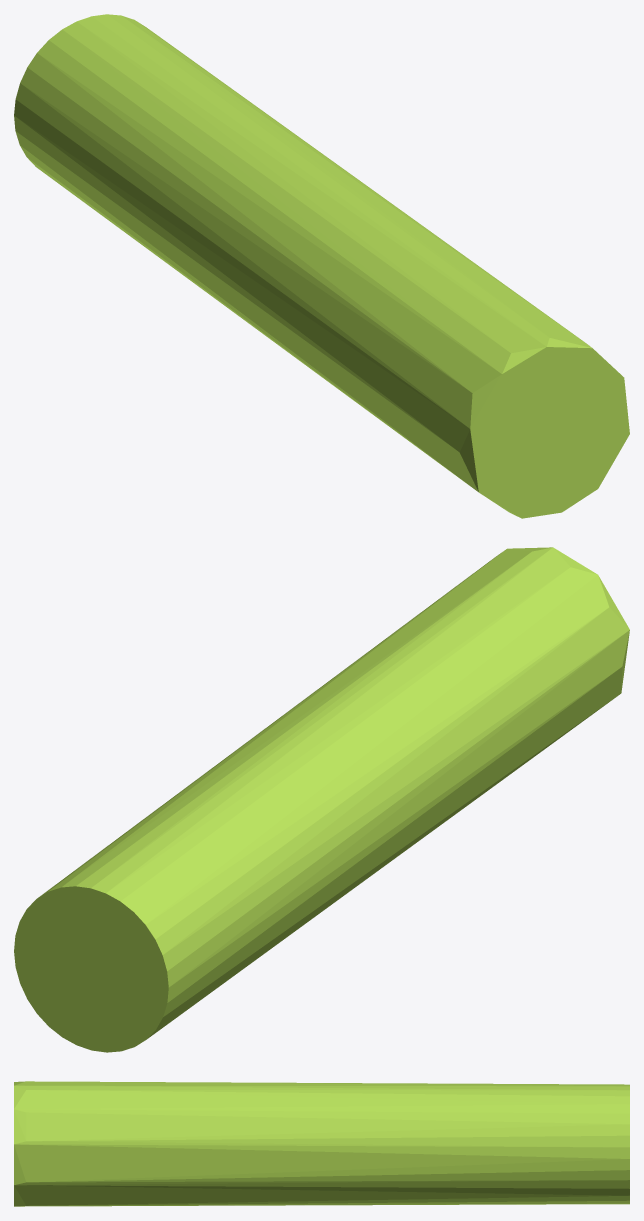
Rendered from ur10e_link_3_coll_1.dae.
3 views of the same model, one above another, from view 1: azimuth 30°, elevation 25°; view 2: azimuth 150°, elevation 25°; view 3: azimuth 270°, elevation 25° (orthographic). The views are drawn at different scales.
Parts seen in each view (by area): view 1: node; view 2: node; view 3: node.
Boxes of the visible parts, x1=… form: node: x1=14, y1=14, x2=629, y2=518; node: x1=14, y1=547, x2=629, y2=1052; node: x1=14, y1=1081, x2=629, y2=1206.
Bounding box in the file's own units: 0.0903 × 0.09 × 0.4414.
